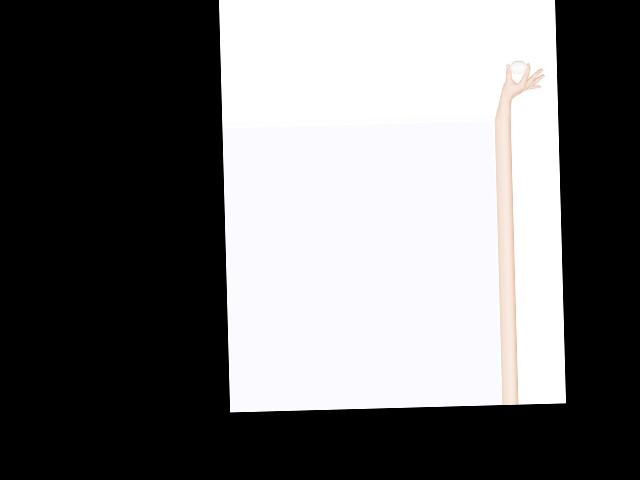egg: (509, 59, 527, 73)
